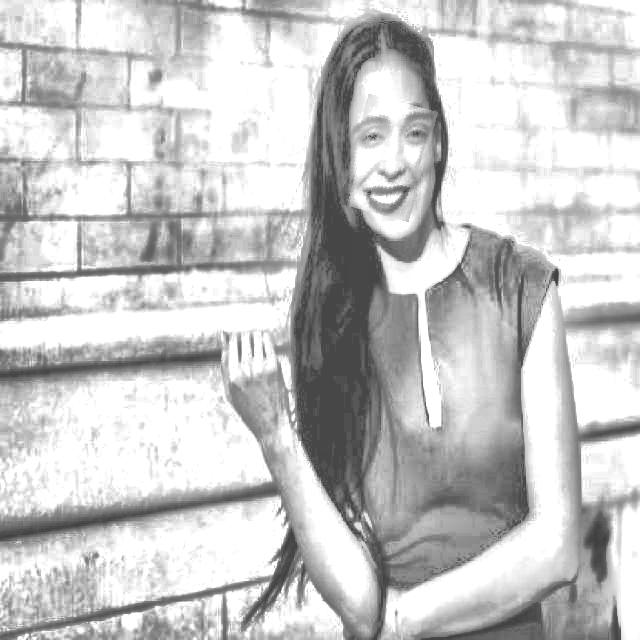happy: (346, 98, 432, 218)
